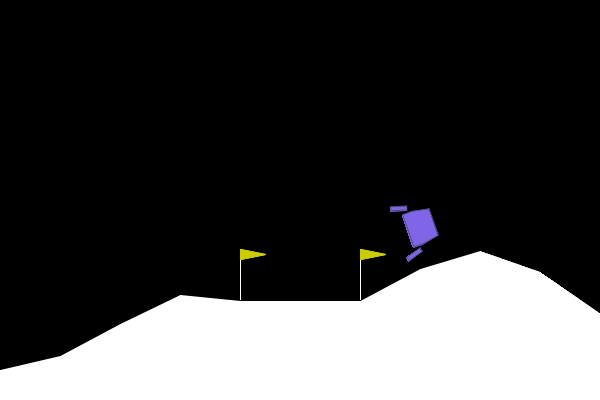lander: (388, 193, 445, 263)
